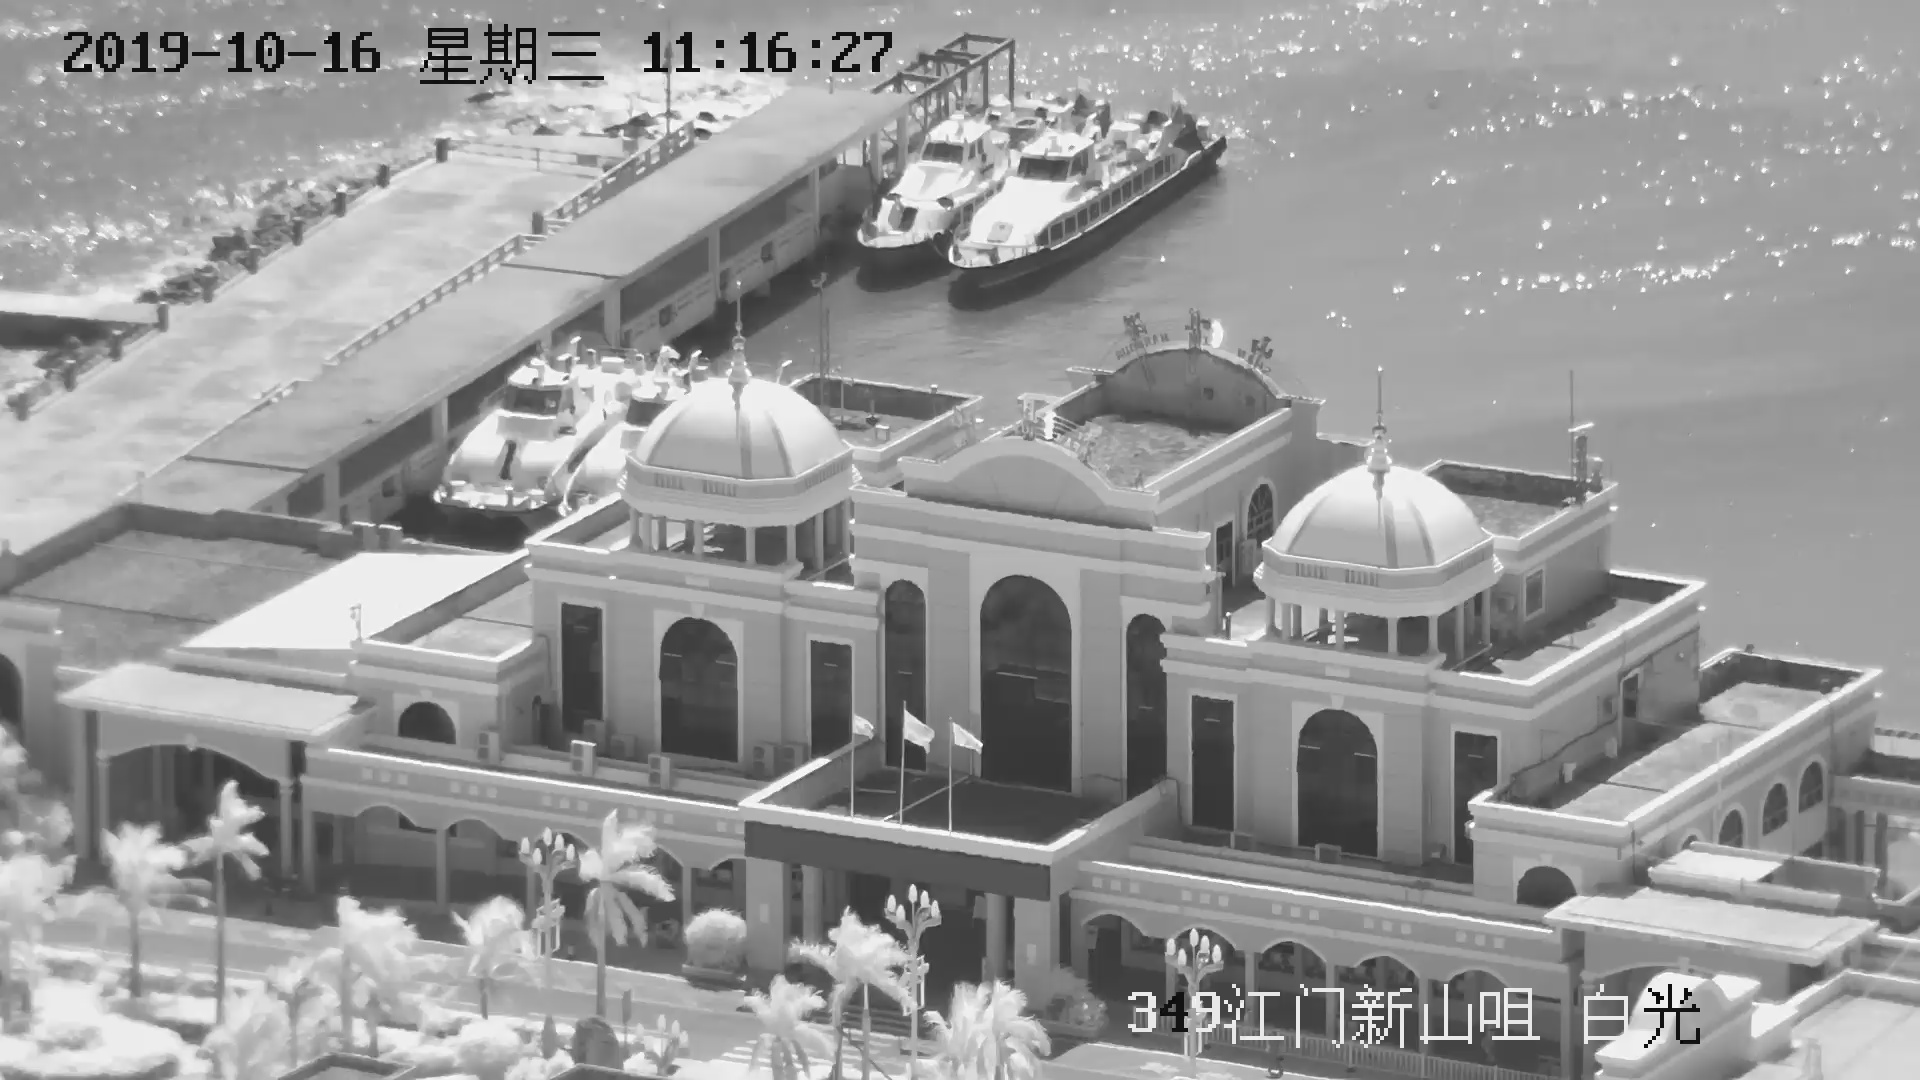ship: (942, 111, 1229, 309), (425, 330, 675, 506), (855, 83, 1089, 265)
